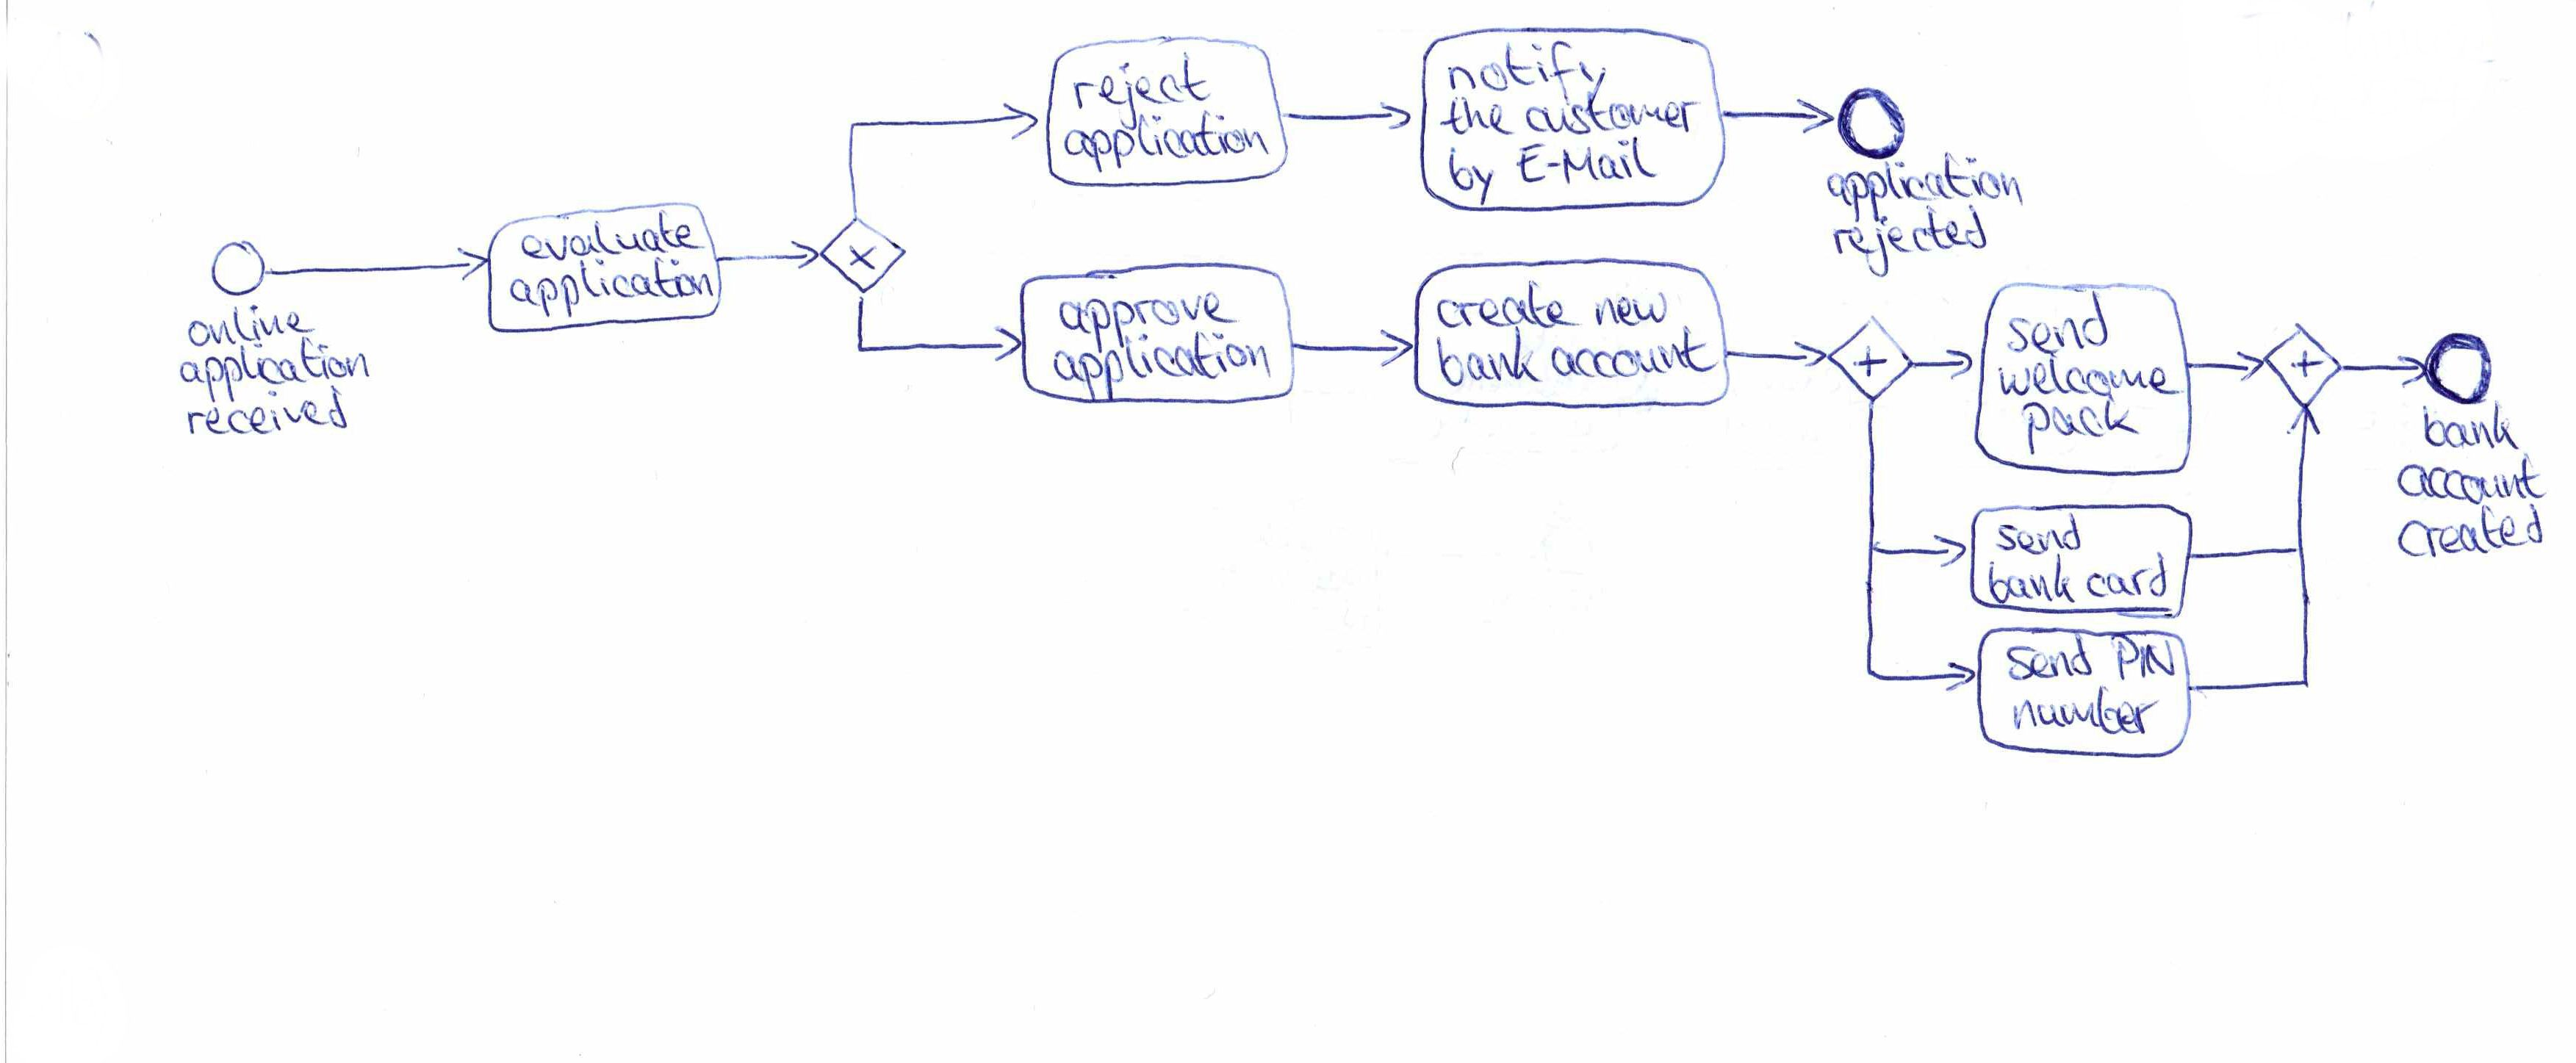E-Mail: (1516, 135, 1661, 192)
PIN: (2104, 633, 2180, 682)
account: (1546, 330, 1718, 389), (2395, 455, 2545, 503)
application: (1050, 332, 1277, 398), (1061, 107, 1272, 177), (504, 260, 716, 324), (1820, 150, 2022, 214), (174, 348, 368, 406)
approve: (1051, 283, 1239, 332)
bank: (1434, 327, 1544, 388), (2420, 398, 2522, 458), (1983, 550, 2078, 611)
by: (1444, 146, 1511, 210)
card: (2078, 549, 2182, 613)
create: (1428, 278, 1587, 334)
created: (2397, 501, 2551, 567)
customer: (1523, 90, 1699, 140)
evaluate: (522, 207, 706, 266)
new: (1595, 283, 1672, 330)
notify: (1442, 35, 1618, 97)
number: (2009, 682, 2159, 739)
online: (182, 307, 314, 350)
pack: (2019, 399, 2139, 460)
received: (181, 394, 350, 447)
reject: (1060, 54, 1212, 127)
rejected: (1832, 205, 1988, 283)
send: (2006, 294, 2118, 357), (2003, 633, 2109, 685), (1996, 509, 2085, 555)
the: (1442, 95, 1515, 148)
welcome: (1993, 355, 2187, 399)
